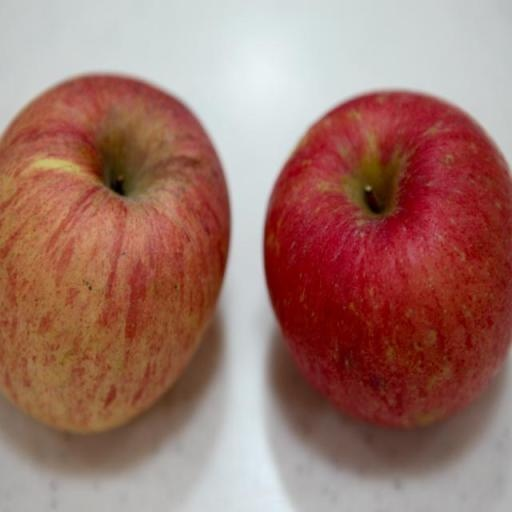fruit: (265, 92, 511, 427), (0, 76, 229, 431)
